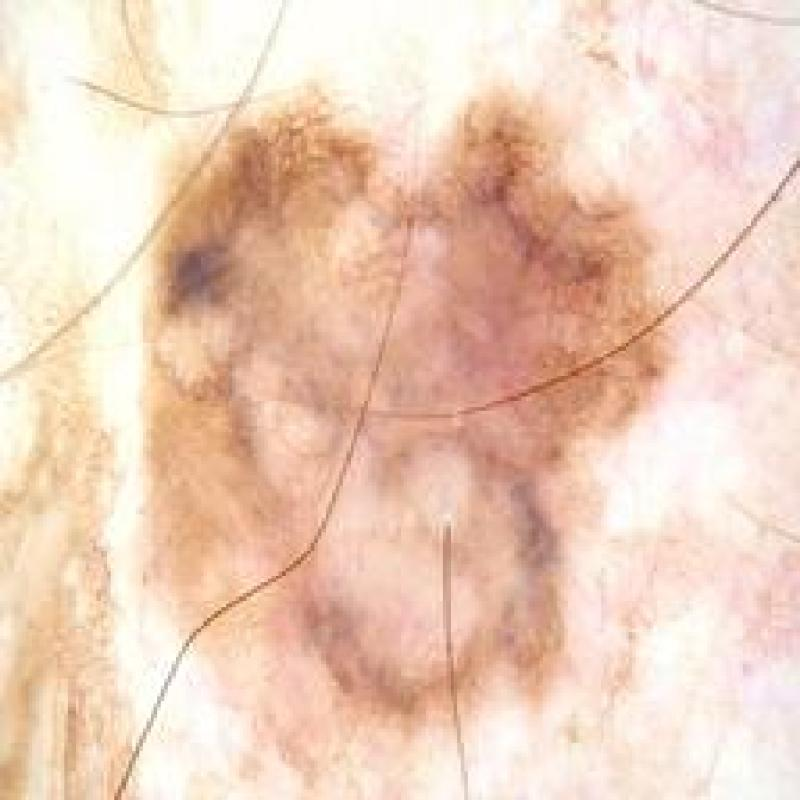malignant: (132, 82, 674, 705)
